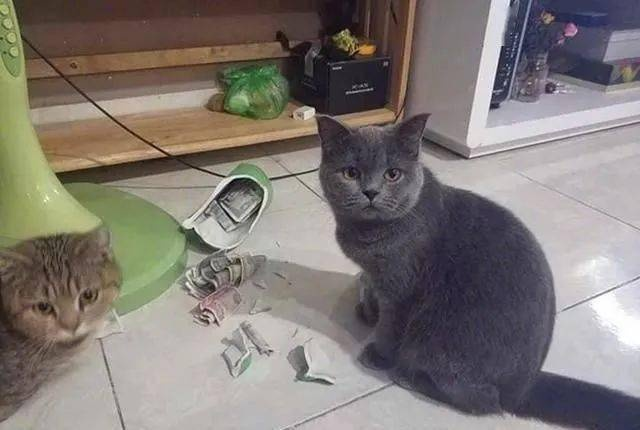cat: (316, 112, 640, 430), (1, 222, 122, 430)
